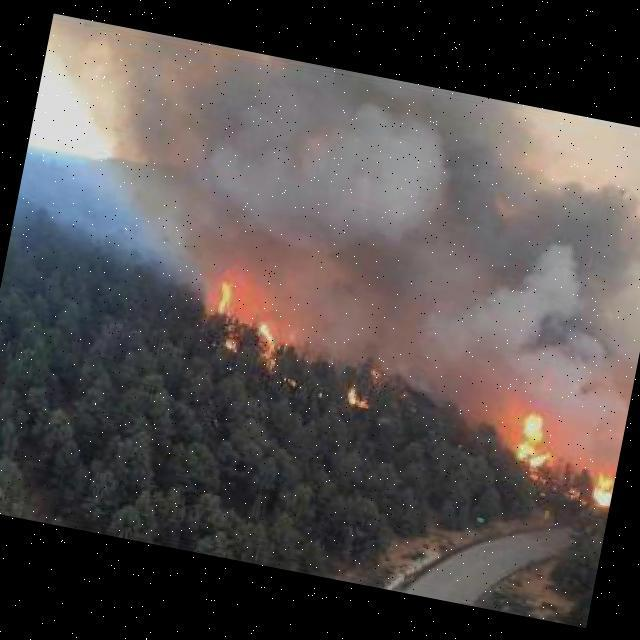Fire: (505, 410, 566, 478), (206, 272, 251, 349), (577, 462, 616, 515), (251, 323, 280, 366), (342, 388, 373, 411)
Smoke: (0, 12, 640, 422)
